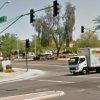Traffic light: (23, 0, 66, 27)
